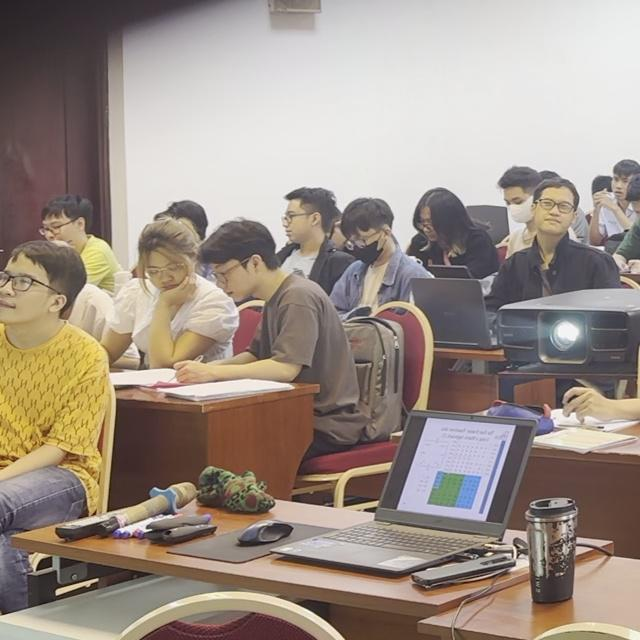Looking away: (149, 259, 185, 291), (40, 220, 69, 244), (284, 210, 303, 240), (509, 187, 524, 223), (422, 213, 436, 241)
Looking forward: (0, 270, 46, 320), (541, 195, 569, 231), (614, 175, 626, 197)
Reading-writing: (156, 220, 359, 398)
